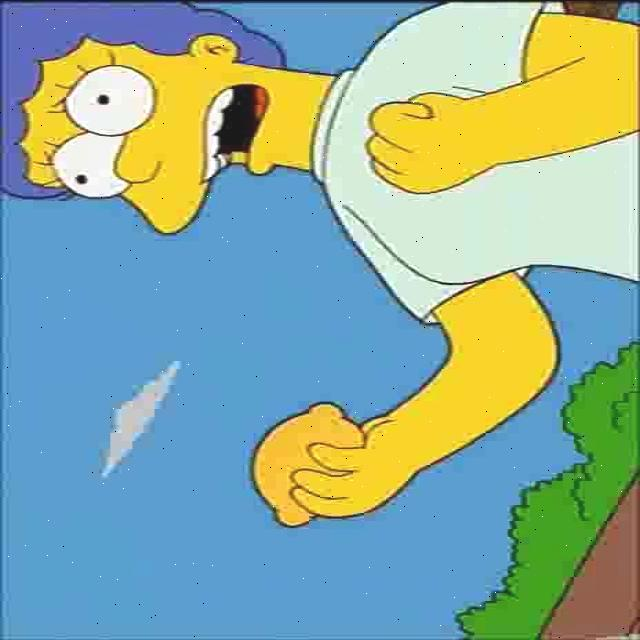Marge Simpson: (0, 0, 343, 235)
